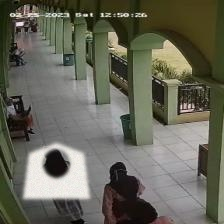Mukena: (22, 142, 90, 199)
